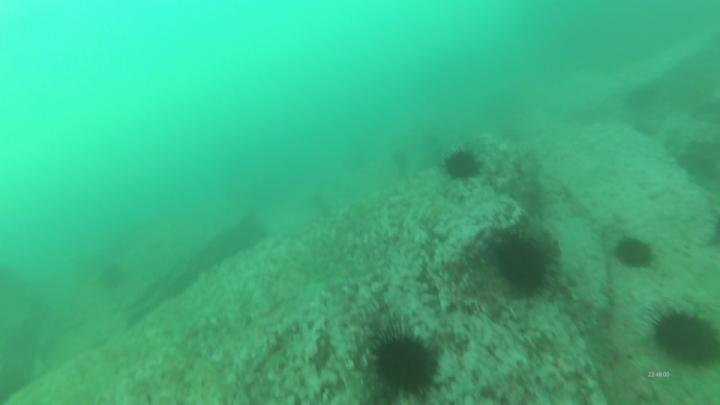echinus: (365, 316, 442, 405), (645, 303, 720, 372), (491, 231, 561, 300), (609, 235, 659, 273), (440, 146, 487, 185)
